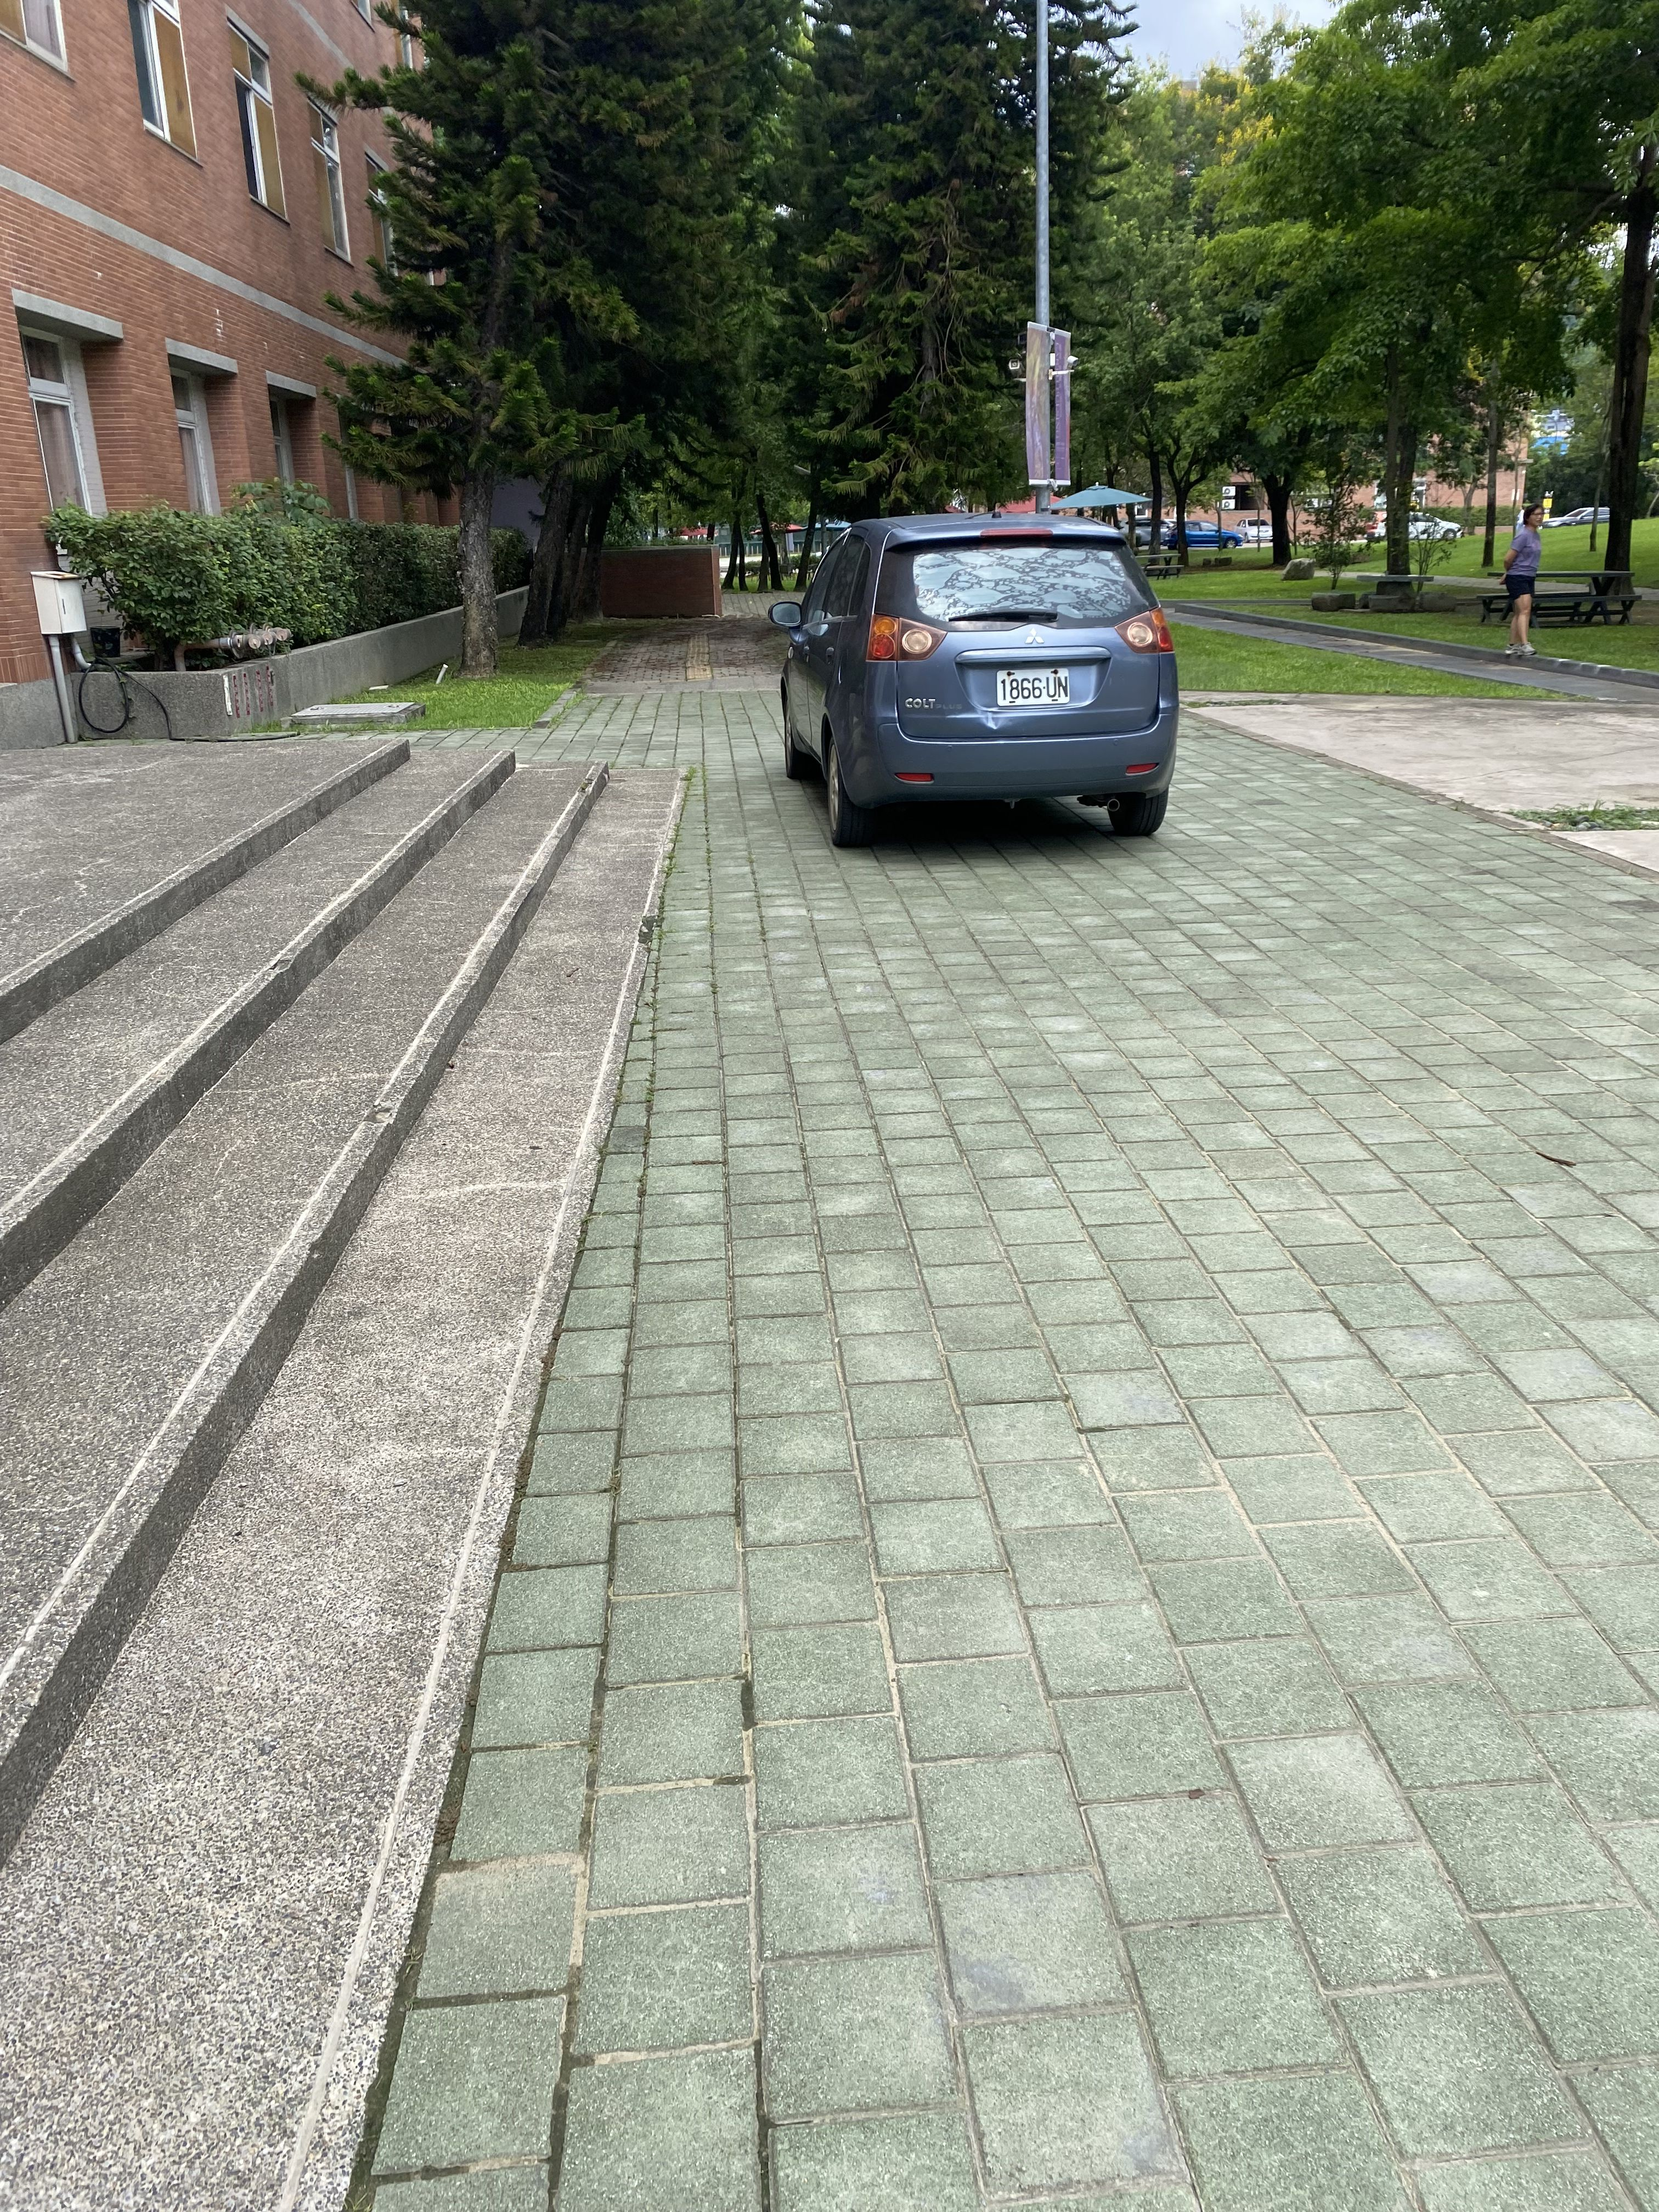sidewalk: (366, 622, 1659, 2207)
